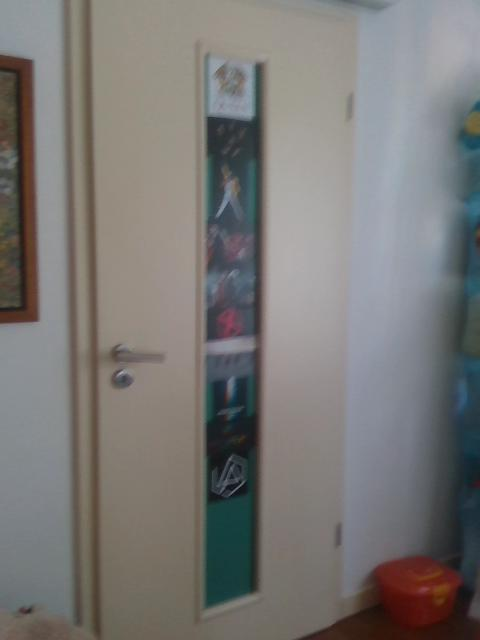door: (96, 1, 351, 640)
